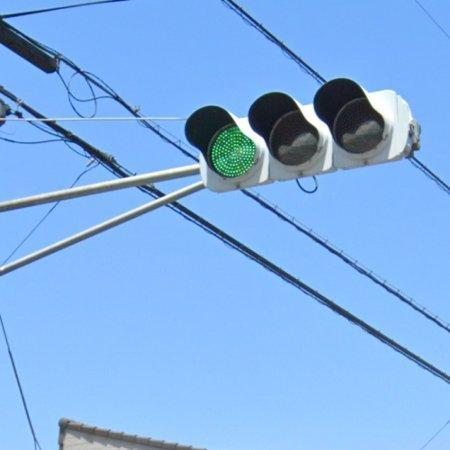traffic lights: (180, 80, 415, 184)
